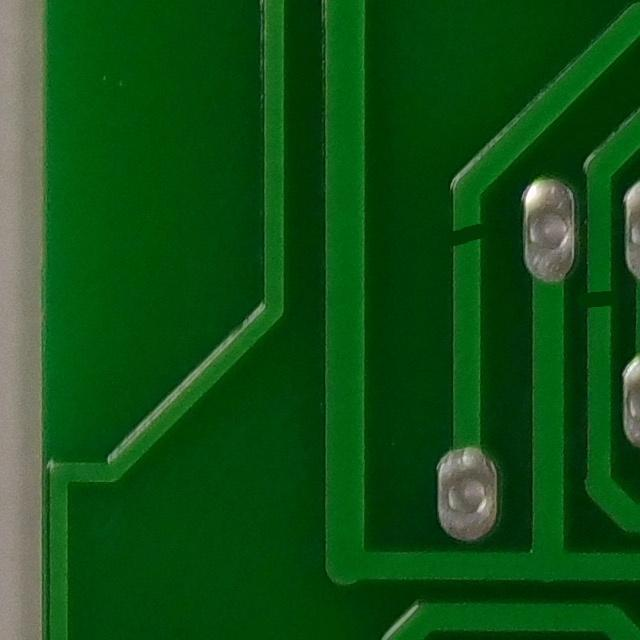open_circuit: (429, 208, 496, 267), (575, 280, 629, 323)
